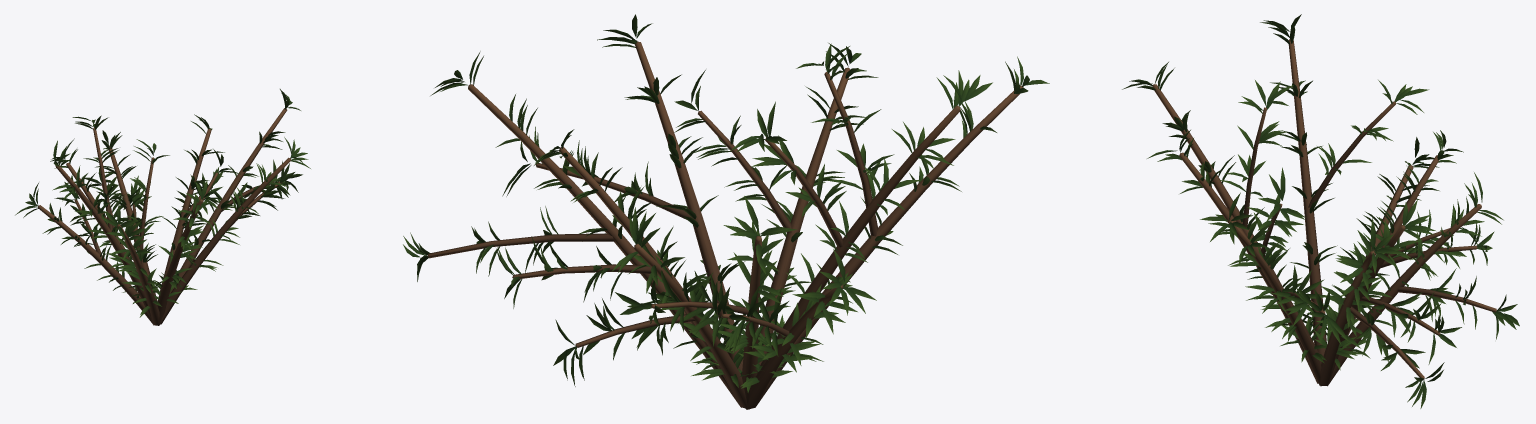
The model's file is labradortea.glb.
3 renders of one model, left to right at view 1: azimuth 30°, elevation 25°; view 2: azimuth 150°, elevation 25°; view 3: azimuth 270°, elevation 25°, orthographic. The views are drawn at different scales.
Visible parts, largest first — view 1: labradortea; view 2: labradortea; view 3: labradortea.
Part boxes in pixels (box(x1,y1,x2,y2)): labradortea: box(15, 89, 310, 325); labradortea: box(403, 14, 1049, 409); labradortea: box(1122, 14, 1519, 408).
Size of the model in its own units: 0.9258 by 0.6415 by 0.7808.
1 material, 1 textured.
